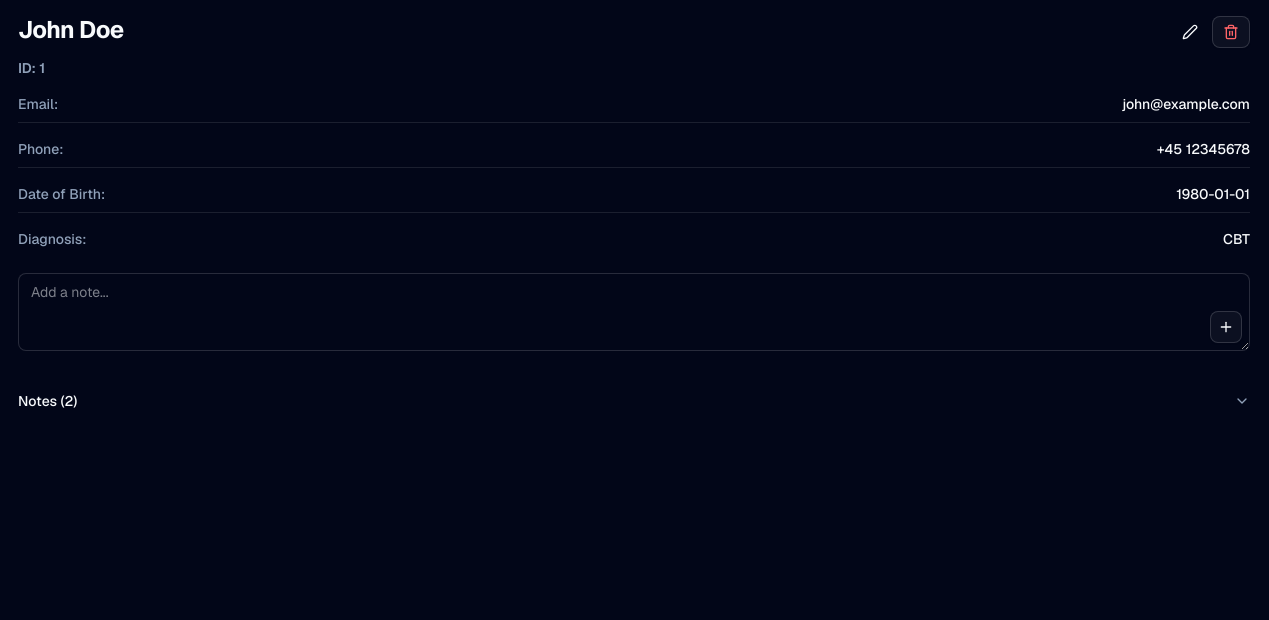
EntityInfo › shows session notes after clicking accordion
What coordinates should you click on to do the following:
click the button "Notes (2)"
I would click on:
 (38, 401)
Its box is [18, 375, 1250, 427].
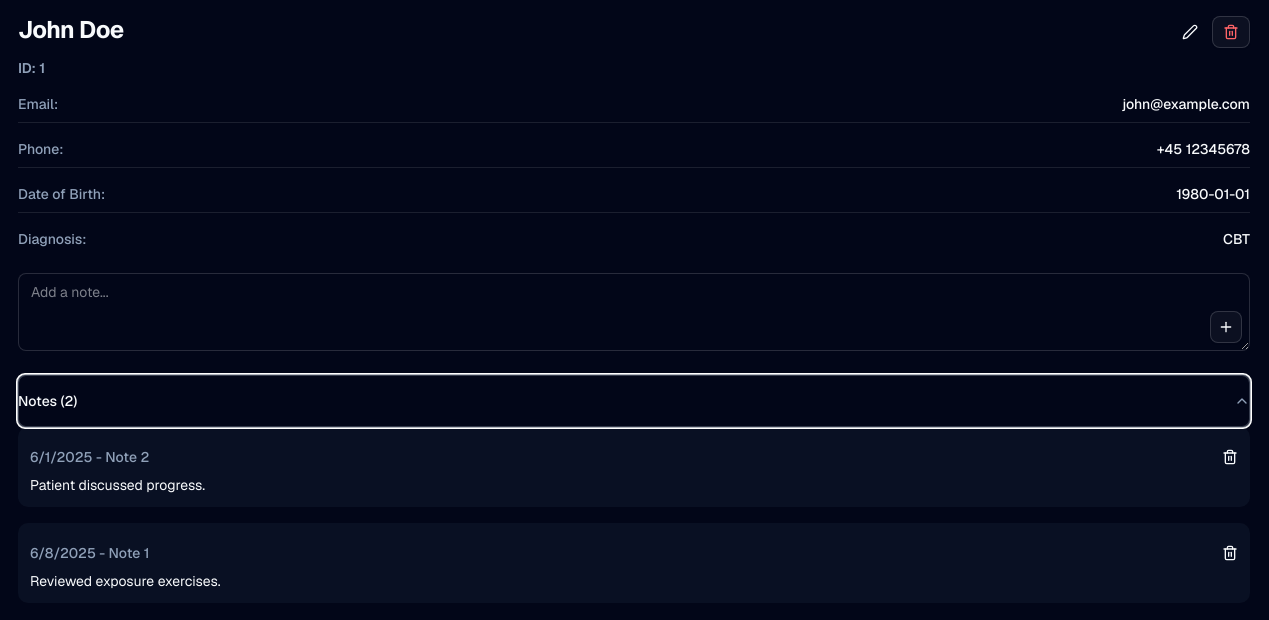
Expected: the text "Patient discussed progress." is shown, [30, 476, 205, 494]
Expected: the text "Reviewed exposure exercises." is shown, [30, 572, 220, 590]
